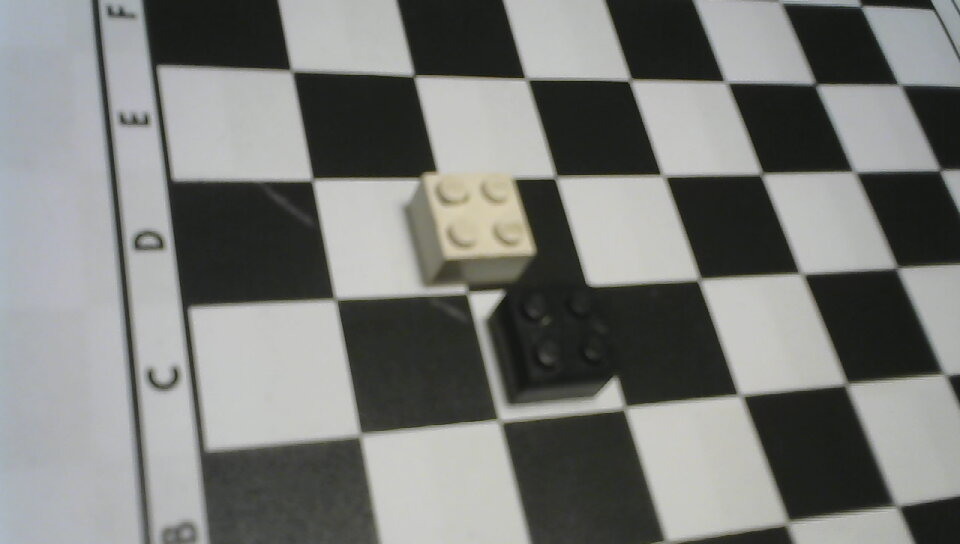wp: (405, 166, 543, 287)
